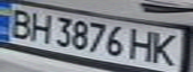3: (51, 15, 75, 48)
6: (103, 24, 130, 58)
7: (87, 20, 109, 54)
8: (69, 17, 90, 52)
B: (3, 6, 36, 39)
H: (127, 27, 160, 63), (24, 10, 57, 44)
K: (148, 30, 184, 69)
